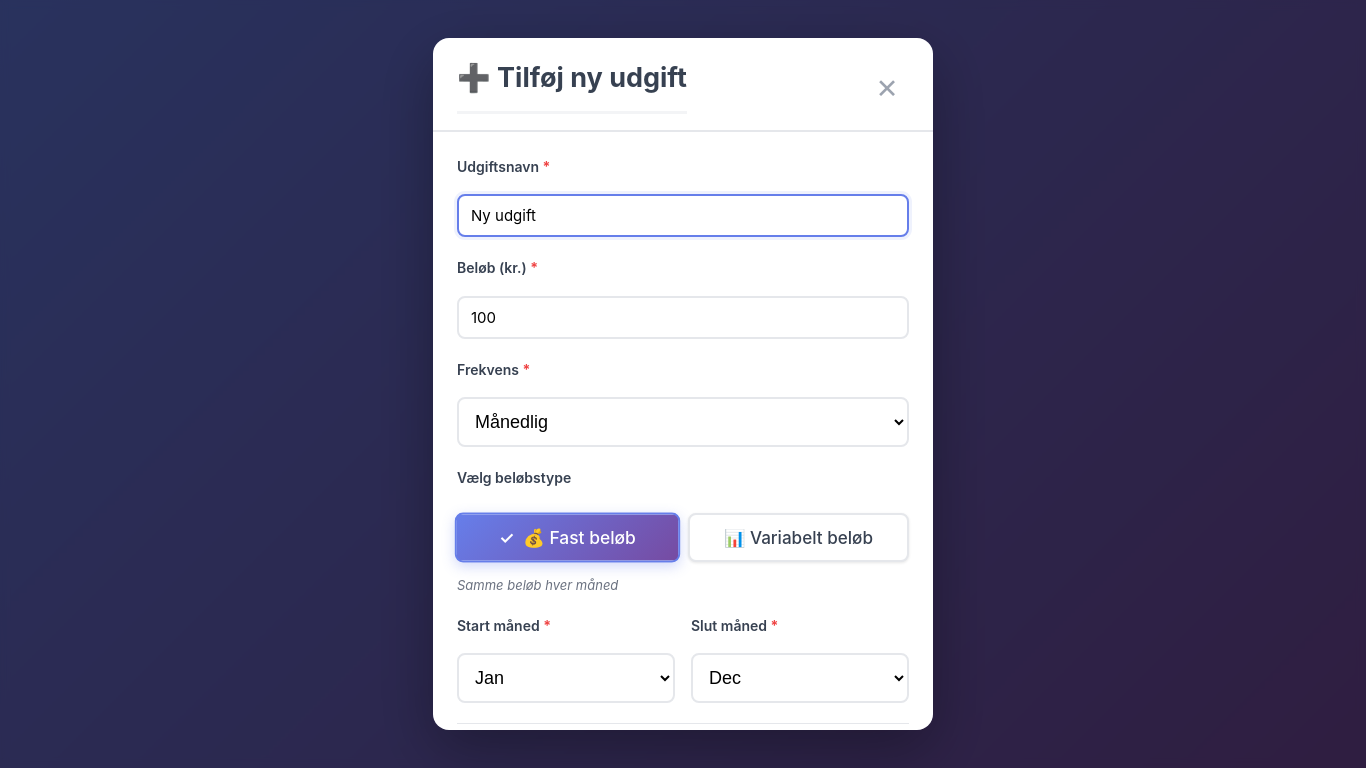
Test: AddExpenseModal › Name Field Validation › should show error for empty name
Clear the field labelled "Udgiftsnavn *" at coordinates (683, 216), box [457,194,909,237]
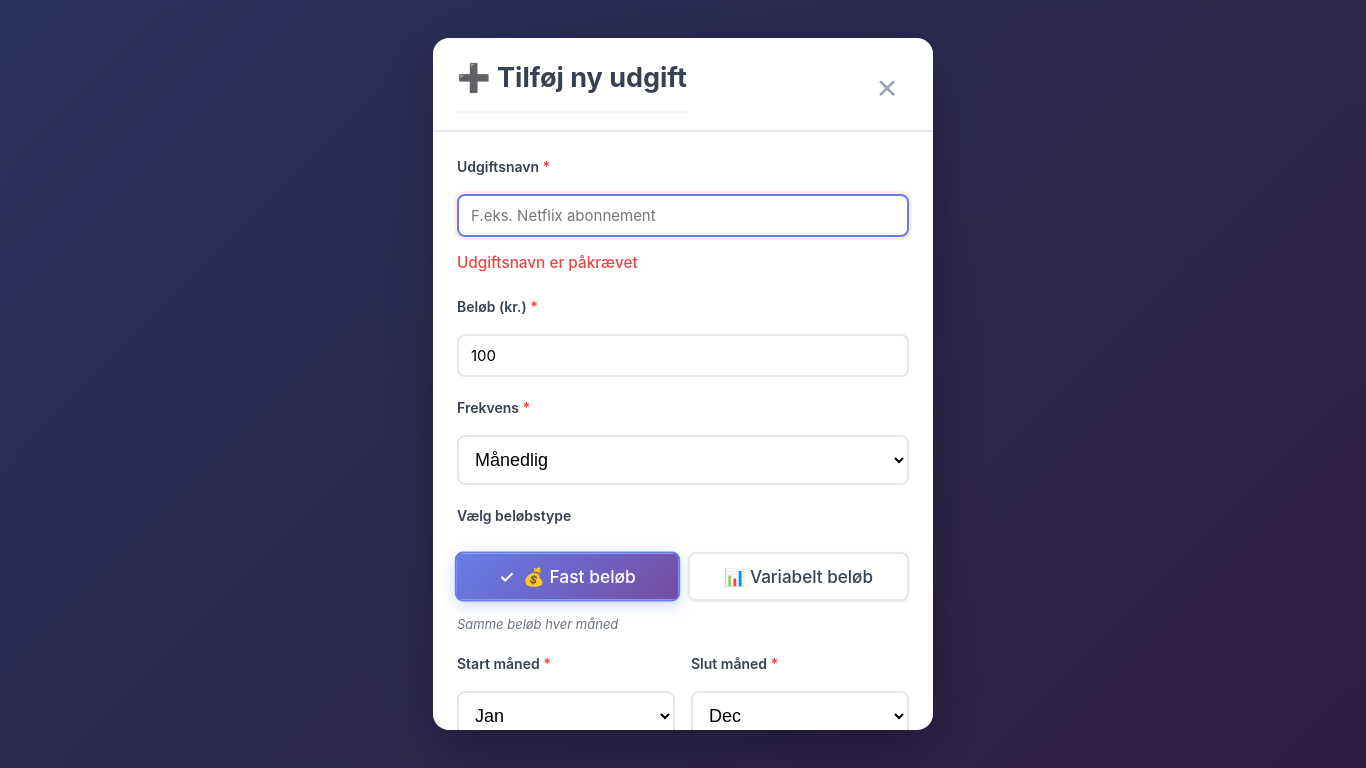
Expected: the text "Udgiftsnavn er påkrævet" is shown, [457,253,638,272]
